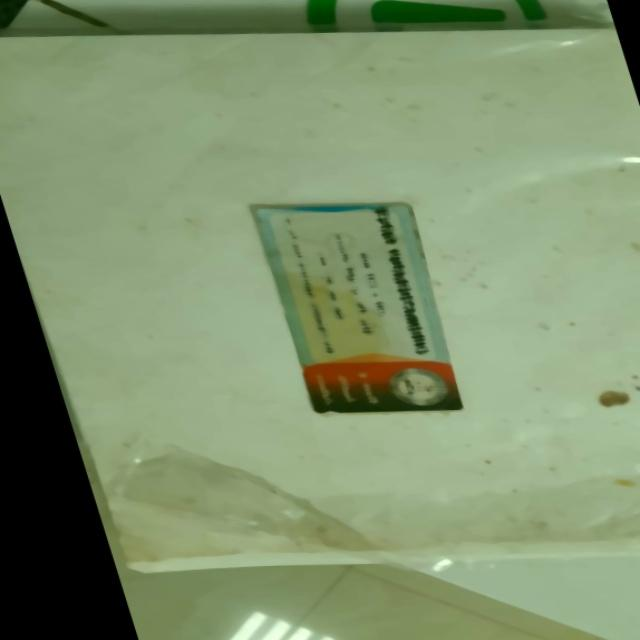Paper Chromatography: (0, 16, 640, 568)
